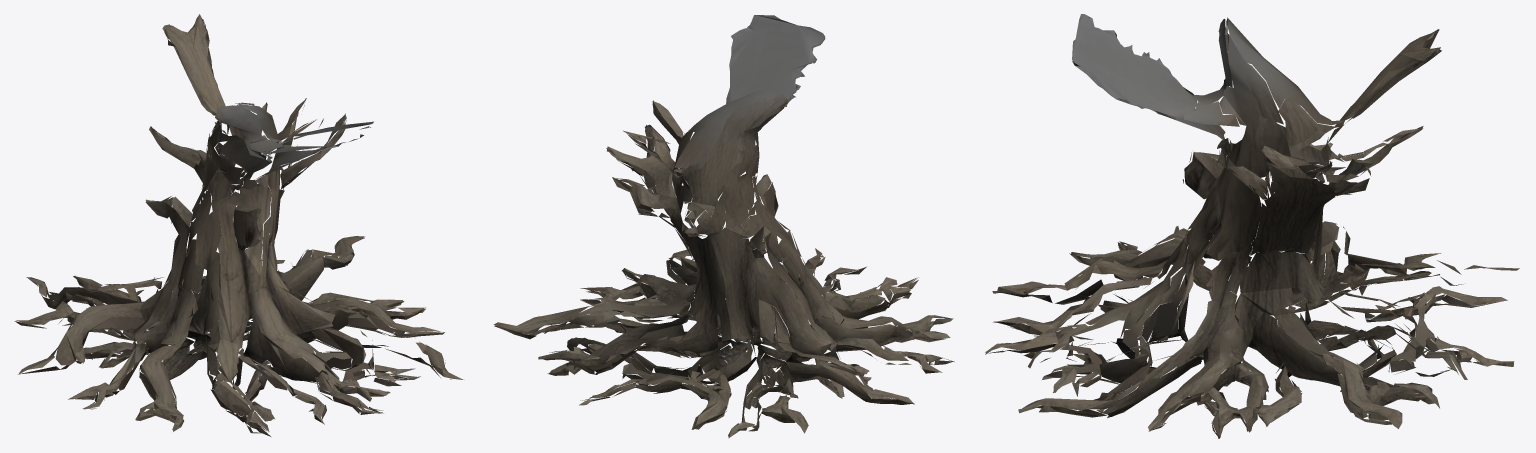
The model's file is deadTree.glb.
The picture shows the model from 3 angles, left to right: view 1: azimuth 30°, elevation 25°; view 2: azimuth 150°, elevation 25°; view 3: azimuth 270°, elevation 25°; orthographic projection. The views are drawn at different scales.
Parts seen in each view (by area): view 1: Prop_deadTree; view 2: Prop_deadTree; view 3: Prop_deadTree.
Boxes of the visible parts, <box> form: Prop_deadTree: <box>14,14,463,436</box>; Prop_deadTree: <box>493,15,954,438</box>; Prop_deadTree: <box>985,14,1519,438</box>.
Size of the model in its own units: 7.15 by 4.84 by 7.14.
1 material, 1 textured.
